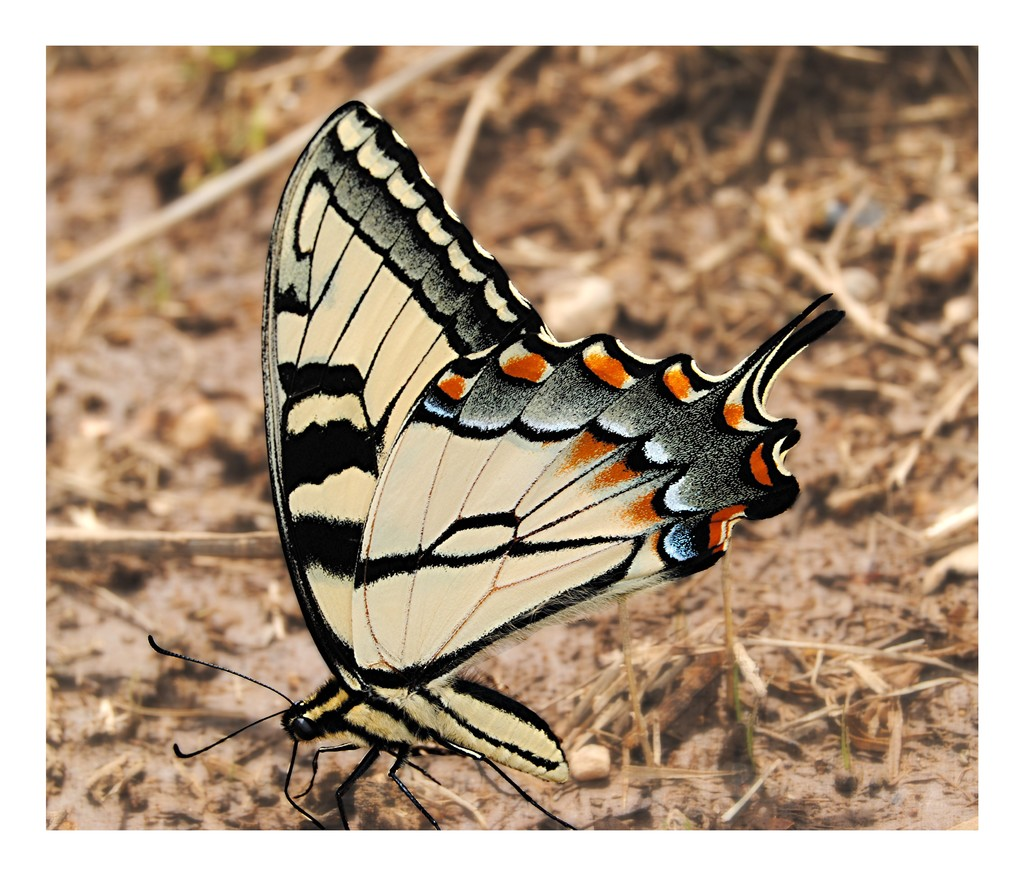Butterfly: (221, 75, 857, 804)
